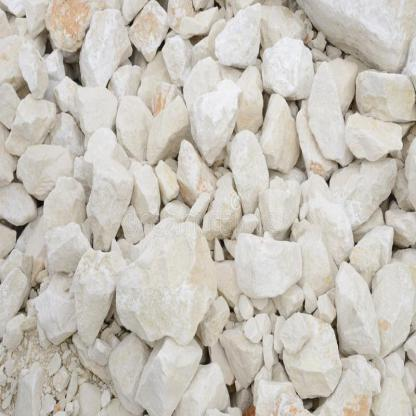Sedimentary_Limestone: (112, 218, 209, 335), (278, 311, 343, 401), (140, 326, 202, 414), (70, 244, 120, 350), (331, 263, 381, 366), (231, 225, 303, 295), (84, 148, 131, 250), (188, 74, 242, 162), (78, 6, 132, 83), (54, 77, 121, 136), (354, 66, 414, 126), (312, 62, 346, 160), (260, 33, 308, 100), (145, 92, 186, 165), (16, 144, 74, 192)
